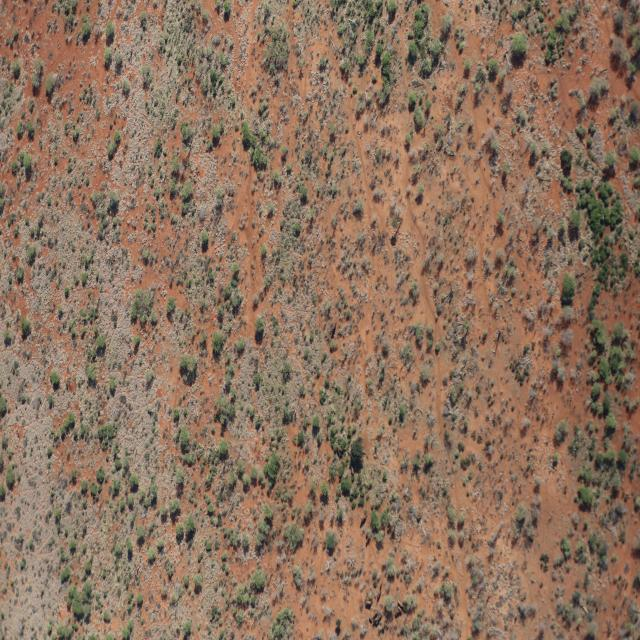elephant: (329, 320, 337, 332), (372, 608, 379, 618), (397, 599, 405, 607), (371, 617, 379, 625), (395, 610, 402, 618), (376, 590, 381, 601), (382, 620, 387, 630), (364, 600, 372, 606), (361, 514, 367, 522), (336, 446, 343, 452), (398, 606, 403, 614), (350, 465, 354, 475), (379, 580, 383, 589), (378, 613, 382, 621), (366, 536, 369, 544), (375, 620, 379, 626), (368, 616, 372, 622)
